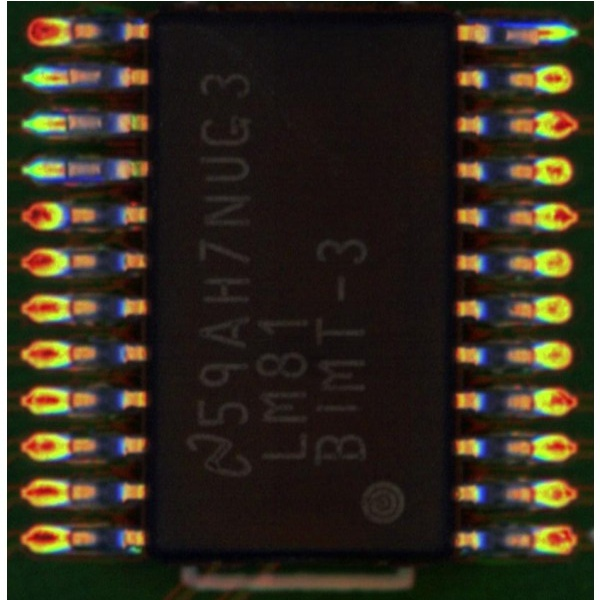Bad_podu: (45, 69, 80, 82), (51, 161, 78, 175), (49, 115, 78, 127), (526, 26, 554, 38), (62, 22, 84, 37)
